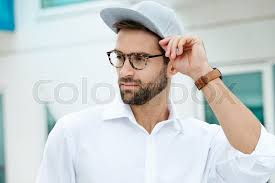Glasses: (101, 49, 164, 70)
